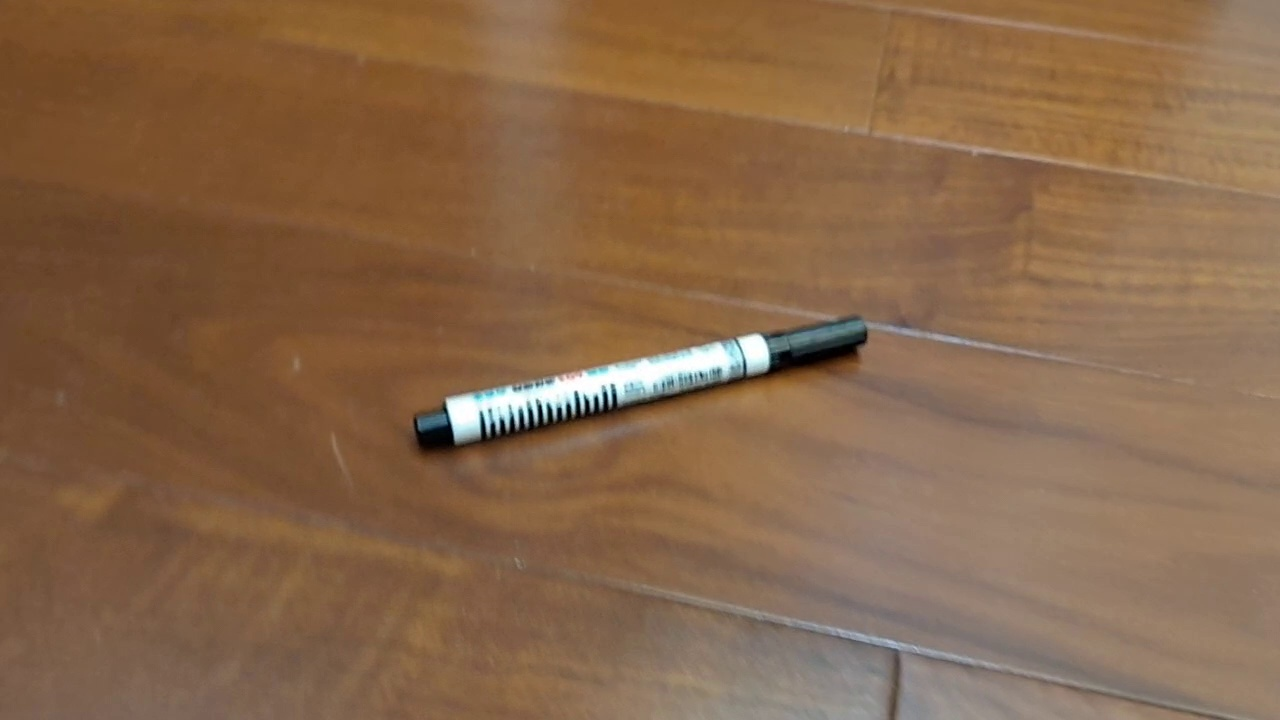pen: (413, 313, 869, 451)
